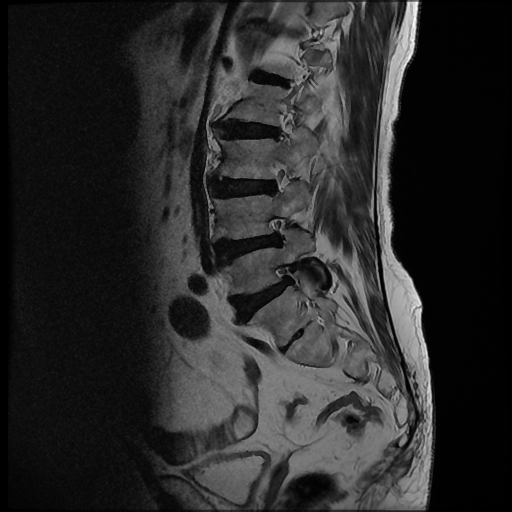RFS0: (259, 156, 297, 201), (268, 254, 306, 297)
RFS1: (261, 208, 299, 253)
